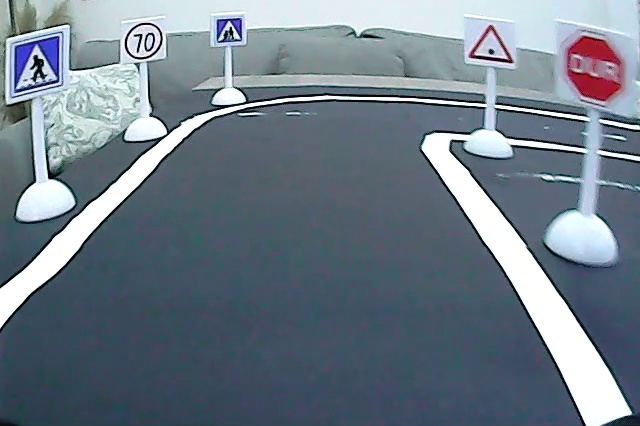green light: (466, 19, 516, 68)
pedestrian crossing: (9, 33, 65, 97)
school crossing: (212, 15, 245, 47)
speed limit 70: (123, 20, 165, 62)
stop sign: (560, 29, 627, 108)
